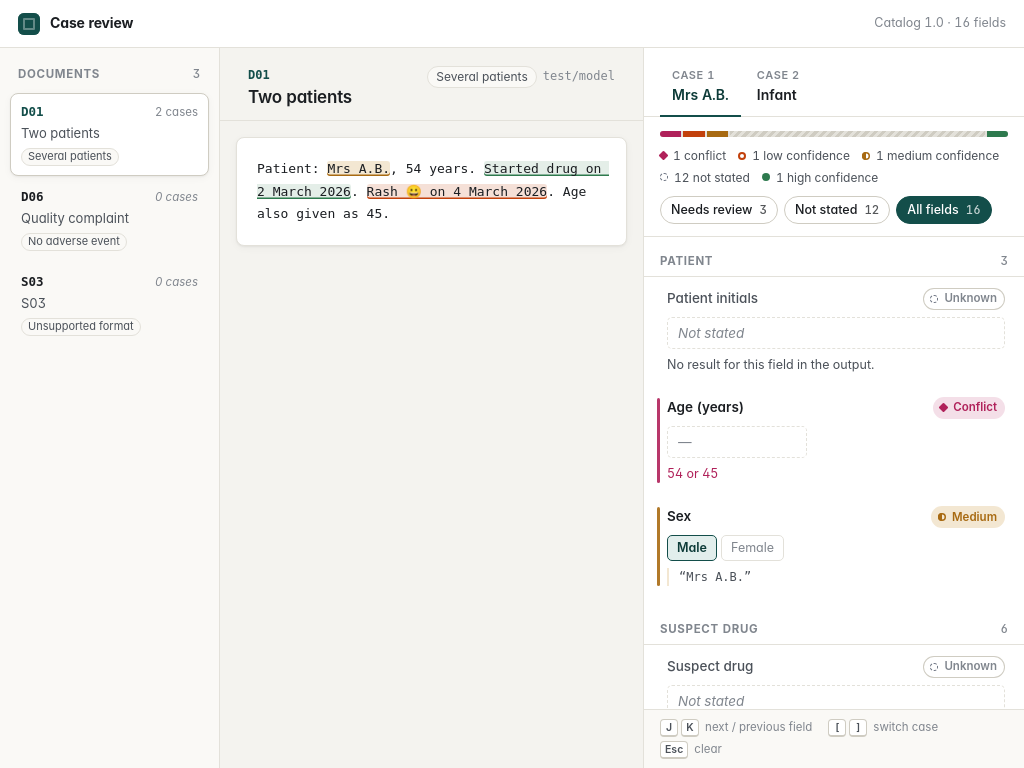
App › filters to the fields that need review
expect the navigation bar "Documents" is shown: met, box [0,48,220,767]
What coordinates should you click on to do the following:
click the radio button labelled "Needs review 3"
I would click on:
 (719, 210)
Its box is [660,196,778,224].
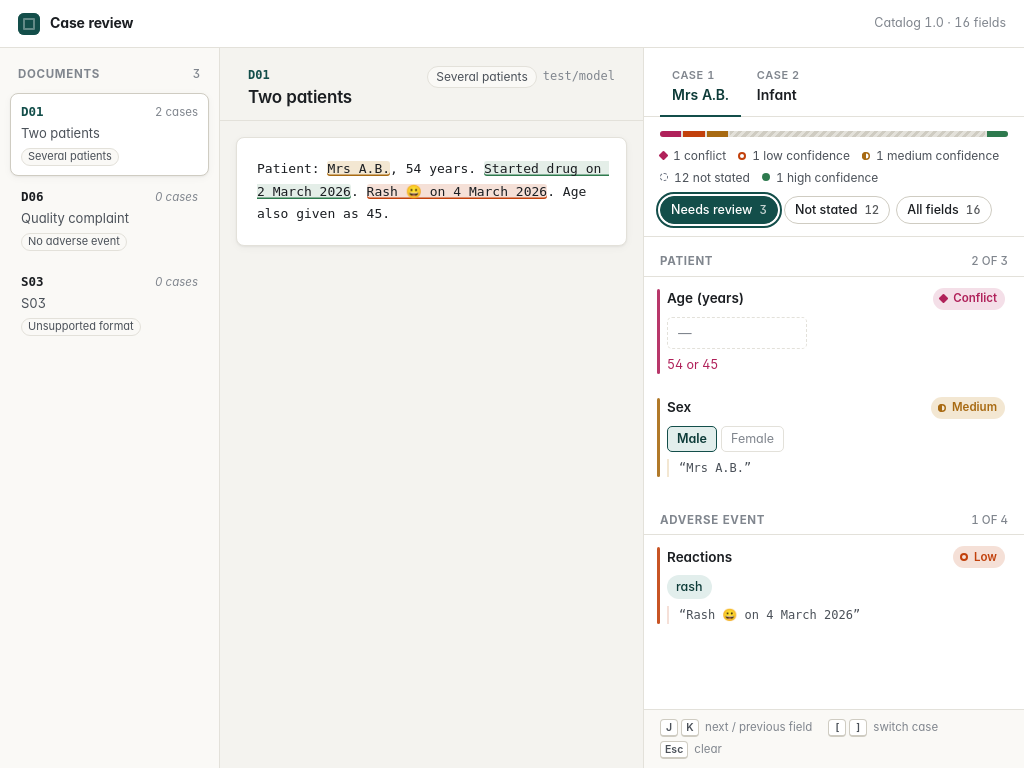
expect the text "54 or 45" is shown: met, box [667,357,718,372]
expect the number of elements with class "field-row" is 3: met, box [652,278,1016,385]; [652,387,1016,488]; [652,536,1016,636]
